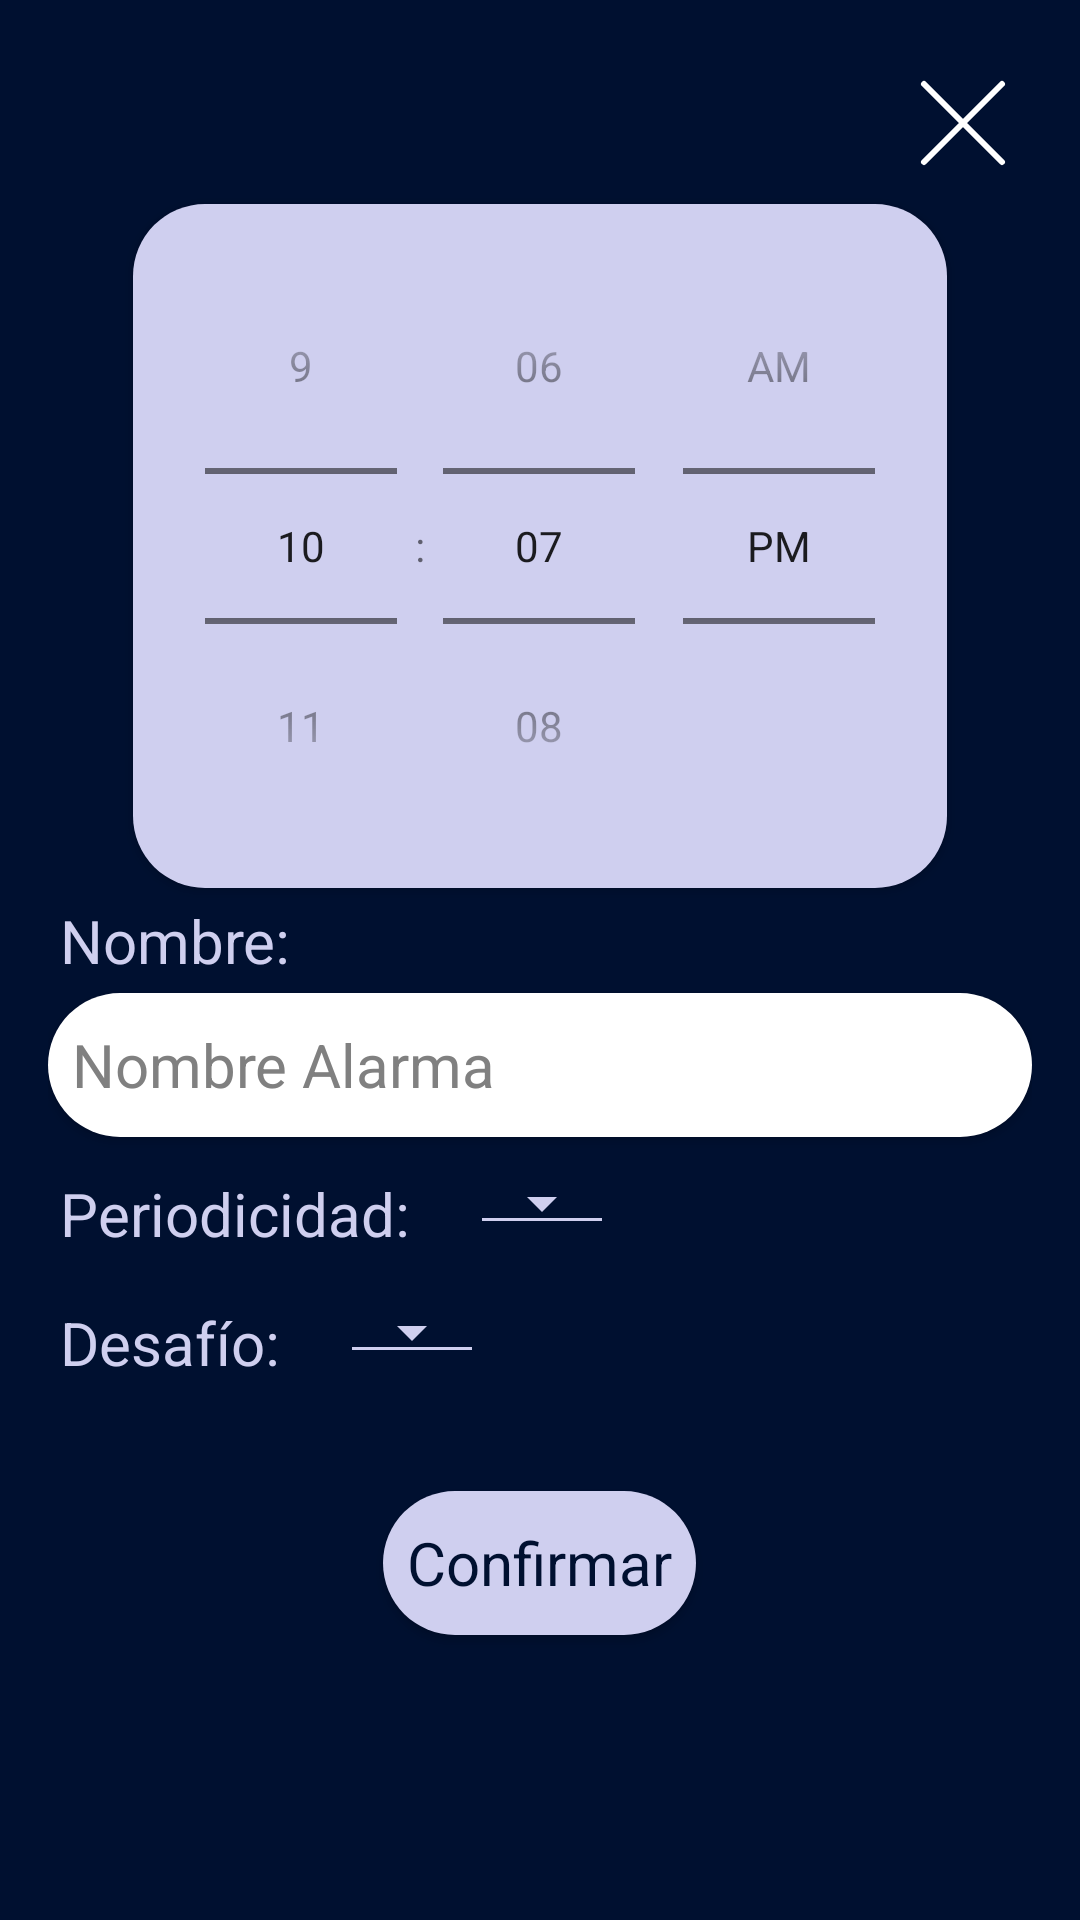

Icons on this 1080 x 1920 Android screen, each with the point to tap as point (x, y):
Close: point (963, 122)
